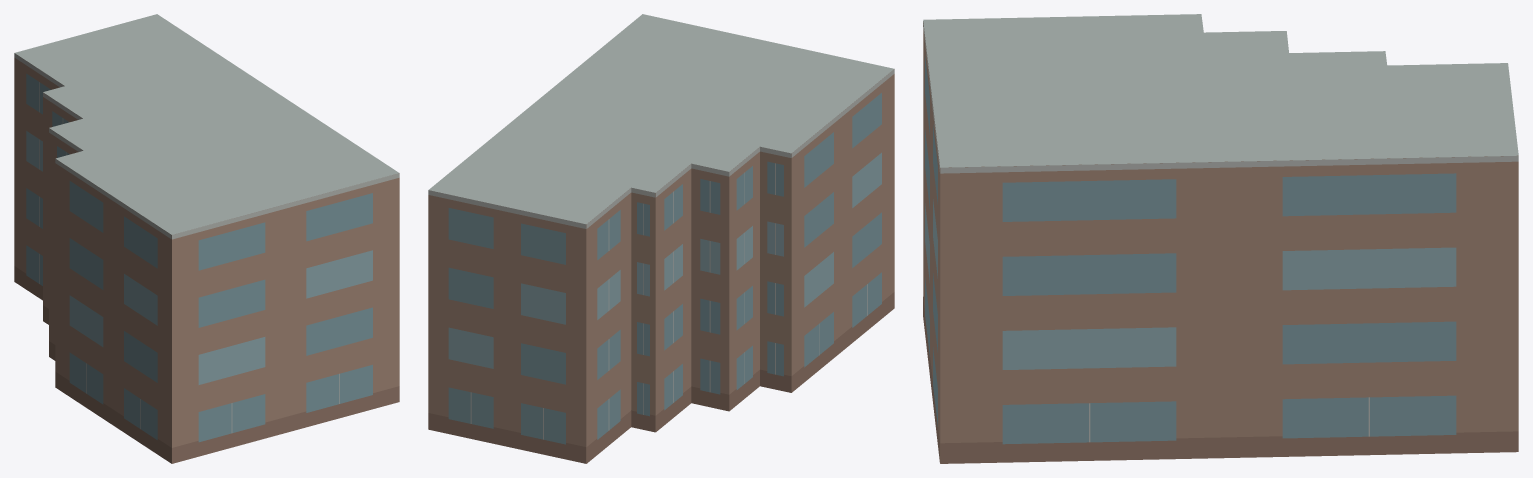
The model's file is residential-e24d57bd-c4e2-42ec-8208-47f606f92547.glb.
3 renders of one model, left to right at view 1: azimuth 30°, elevation 25°; view 2: azimuth 150°, elevation 25°; view 3: azimuth 270°, elevation 25°, orthographic. The views are drawn at different scales.
Visible parts, largest first — view 1: residential-e24d57bd-c4e2-42ec-8208-47f606f92547.tmp; view 2: residential-e24d57bd-c4e2-42ec-8208-47f606f92547.tmp; view 3: residential-e24d57bd-c4e2-42ec-8208-47f606f92547.tmp.
Part boxes in pixels (<box>): residential-e24d57bd-c4e2-42ec-8208-47f606f92547.tmp: <box>14,14,399,463</box>; residential-e24d57bd-c4e2-42ec-8208-47f606f92547.tmp: <box>428,14,894,463</box>; residential-e24d57bd-c4e2-42ec-8208-47f606f92547.tmp: <box>923,14,1518,463</box>.
Size of the model in its own units: 13.58 by 12.2 by 22.24.
